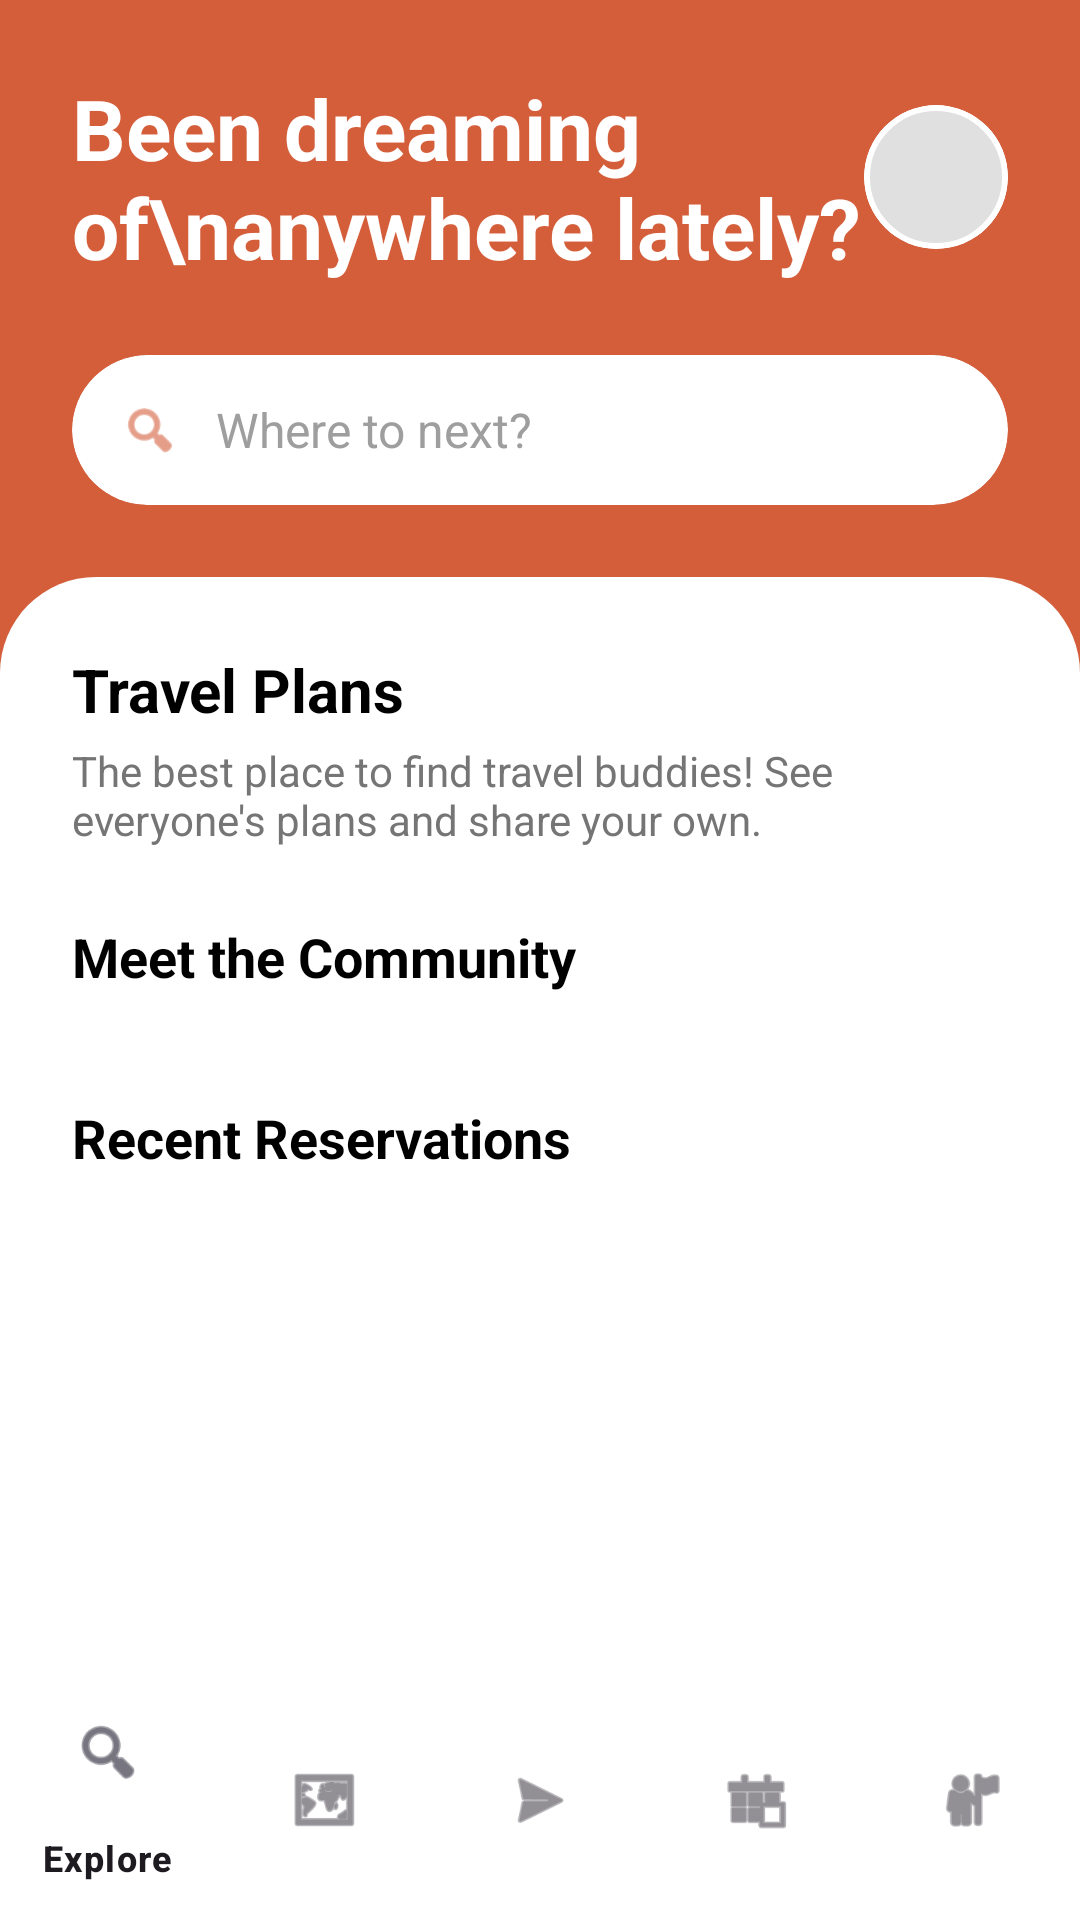

Where icons sit on this 1080 × 1920 app screen, as rect(x1, y1, x2, y2):
search: rect(128, 408, 172, 453)
